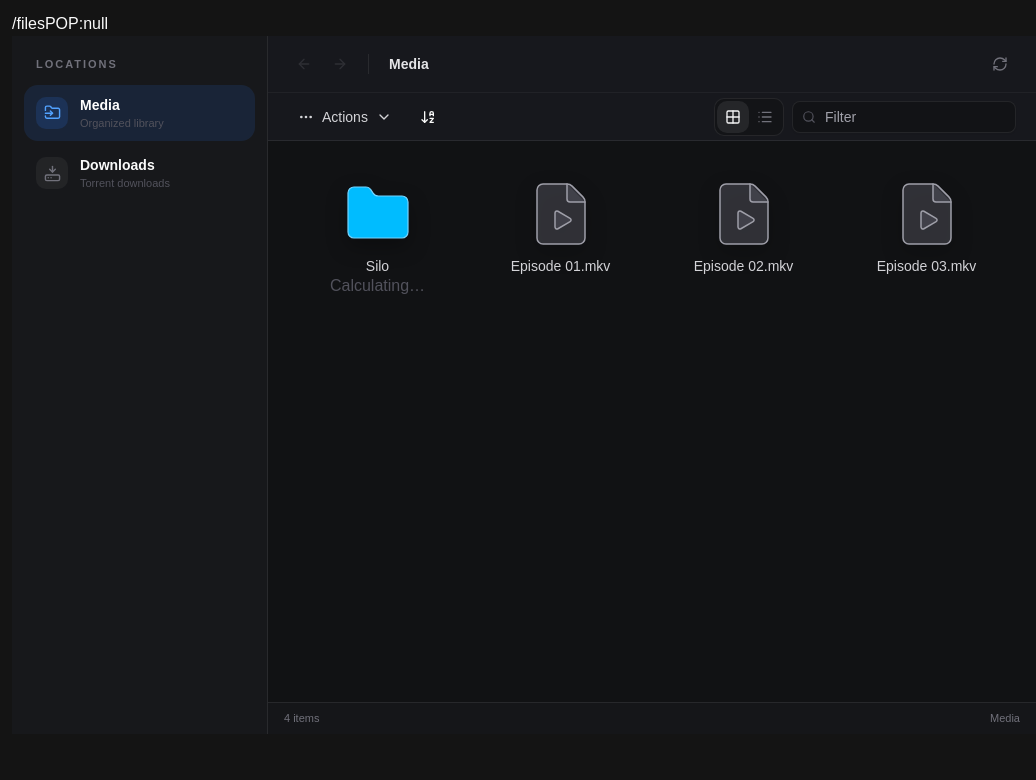
Test: FileManager › shows the backend permission error for move in an error toast
Click the button "Episode 01.mkv" at coordinates (560, 238), box [475,165,646,311]
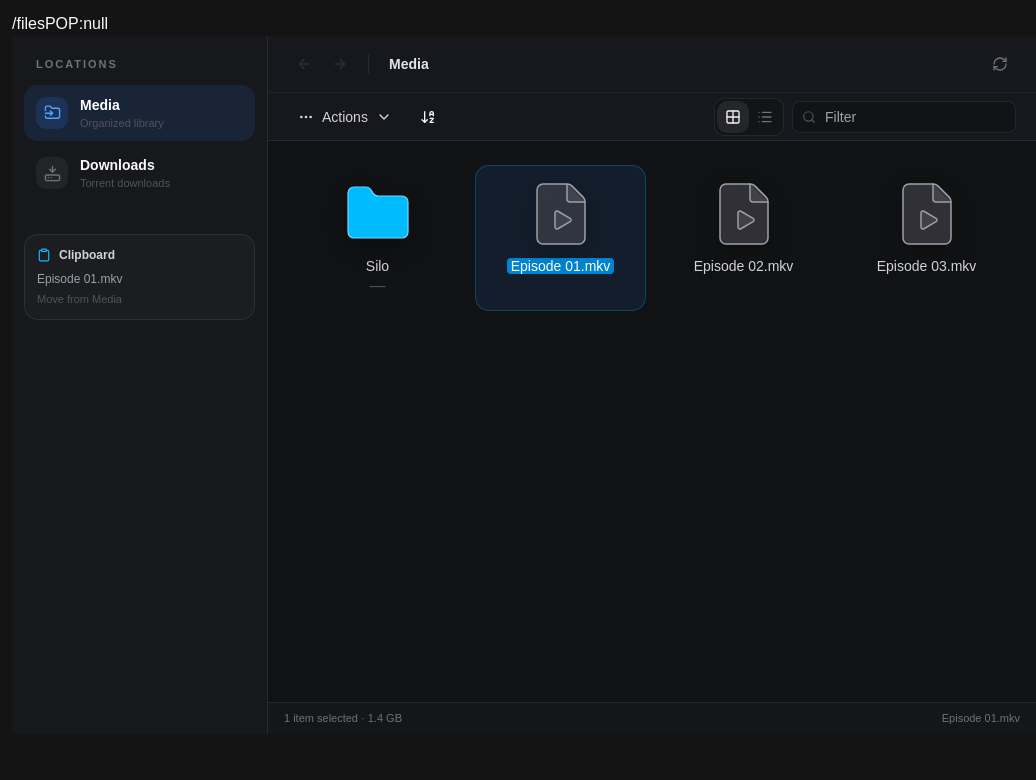
Click the button "Downloads Torrent downloads" at coordinates (140, 173), box [24,145,255,202]
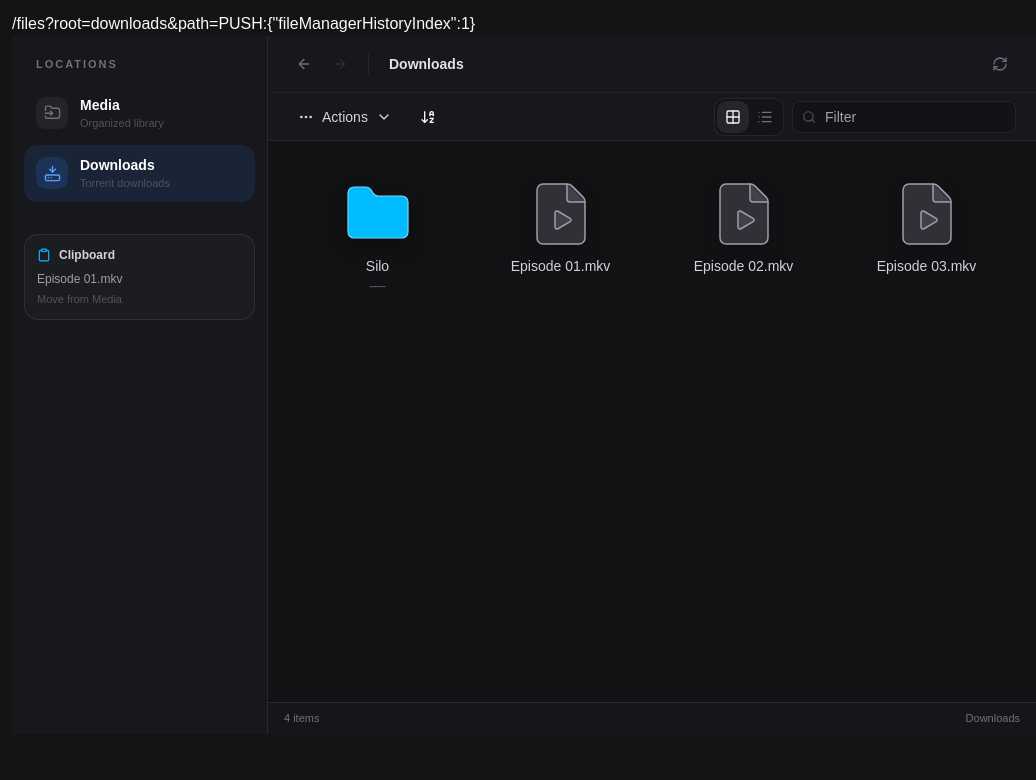
Result: the text with test id "router-location" reads "/files?root=downloads&path=" at [12,15,218,32]
